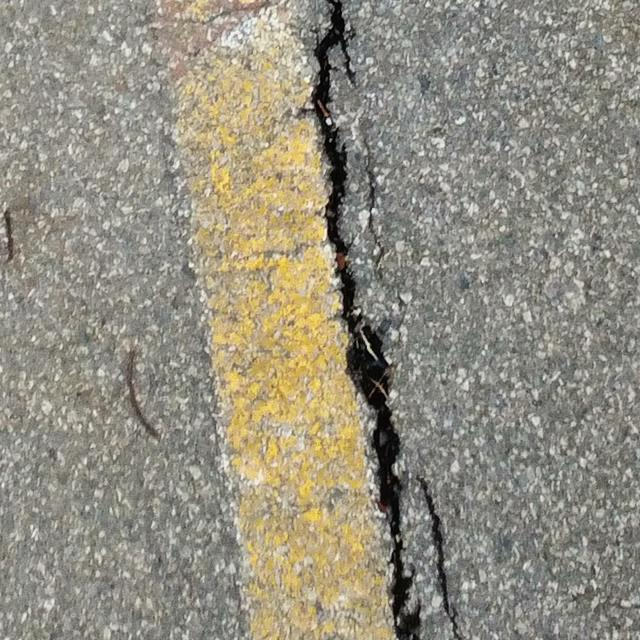LongitudinalCrack: (306, 2, 427, 640), (418, 472, 471, 640)
